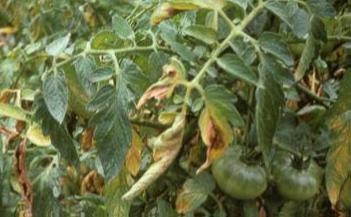Tomato Early blight leaf: (121, 108, 191, 200), (197, 83, 236, 173), (324, 113, 351, 217), (130, 62, 188, 109), (294, 12, 329, 84), (145, 0, 224, 29)
Tomato leaf: (254, 60, 292, 163), (95, 85, 134, 180), (46, 70, 69, 126)
